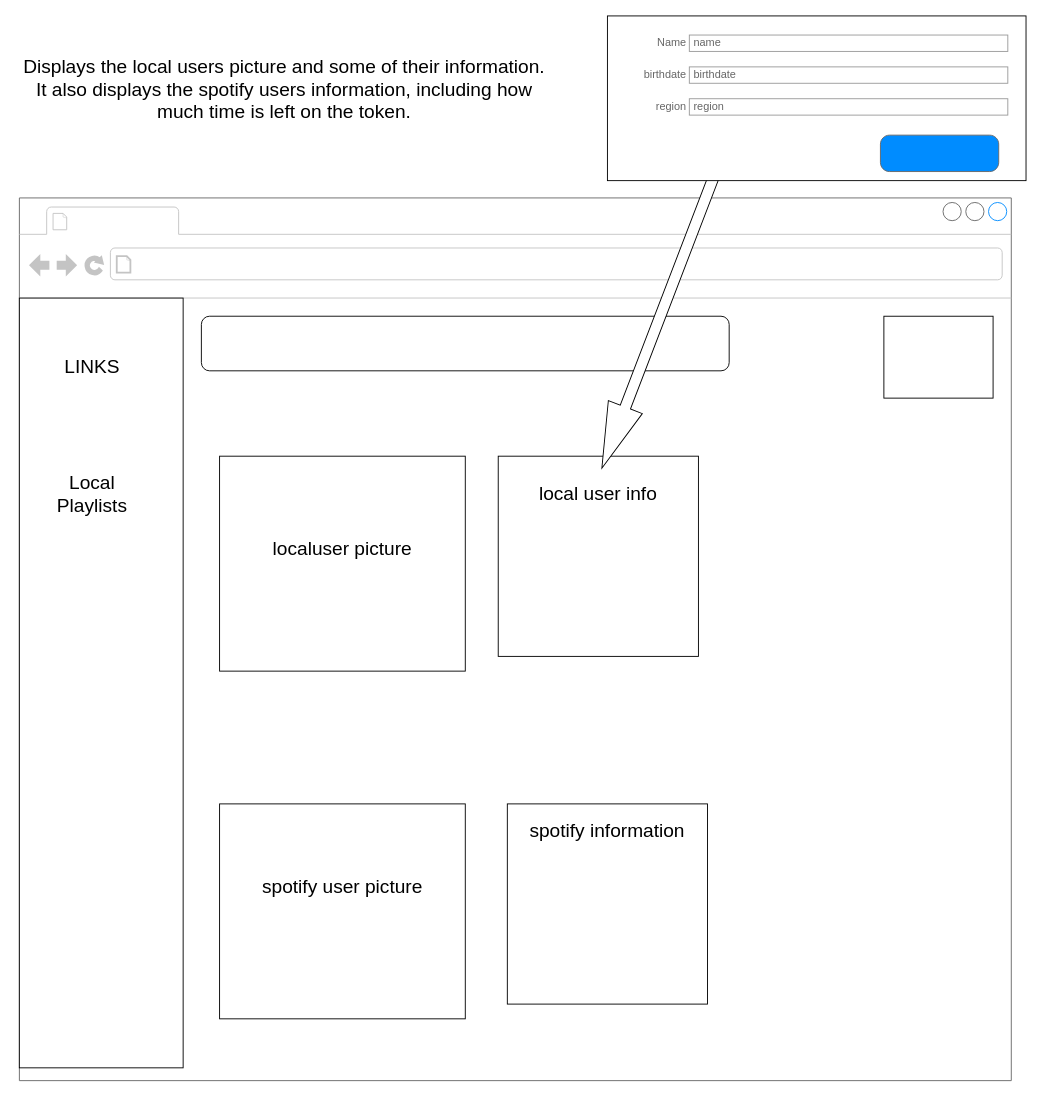
This 1042x1097 diagram has some shape labels left out. The shapes that lost their labels are listed below. From the top down, each one's centre as x and y in pixels, then its label:
the point at 939,153: update profile
the point at 123,220: Spotify Clone
the point at 251,264: https://localhost:4000/profile
the point at 464,343: Main Search Bar
the point at 938,356: Logged in user menu
